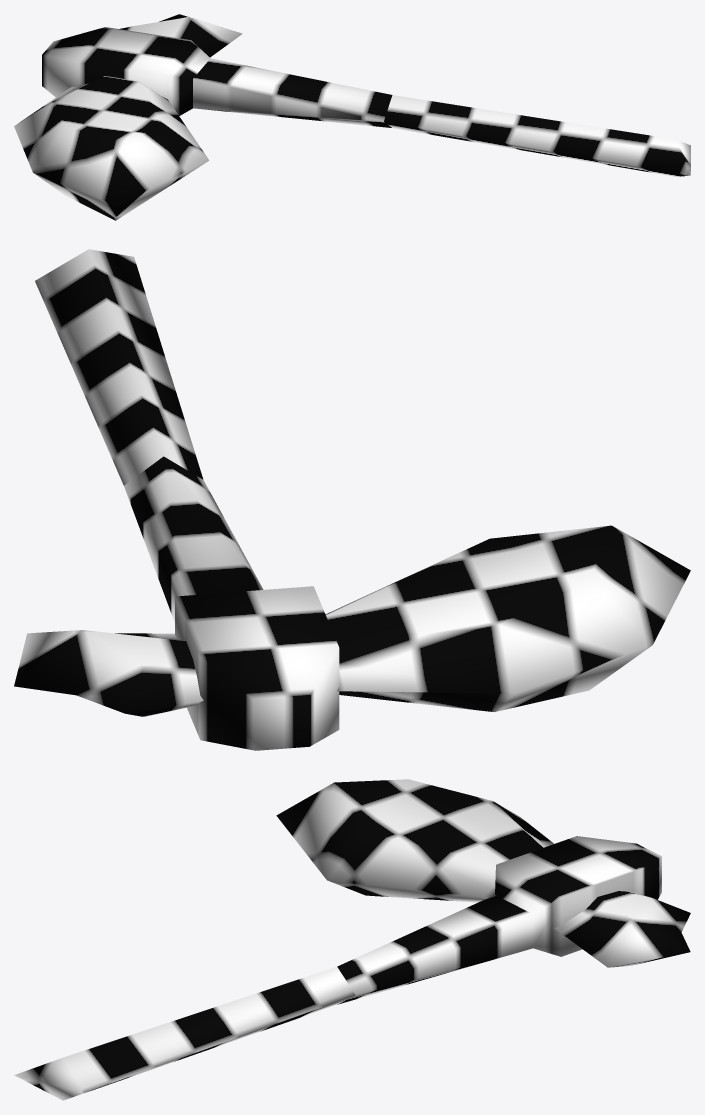
Rendered from initweax1.dae.
The picture shows the model from 3 angles, top to bottom: view 1: azimuth 30°, elevation 25°; view 2: azimuth 150°, elevation 25°; view 3: azimuth 270°, elevation 25°; orthographic projection. The views are drawn at different scales.
Parts seen in each view (by area): view 1: weapon; view 2: weapon; view 3: weapon.
Boxes of the visible parts, x1,y1,x2,y2 form: weapon: (14,14,690,220); weapon: (14,249,690,750); weapon: (14,779,690,1100).
Bounding box in the file's own units: 1.8 × 1.75 × 0.2672.
Materials: 1 (1 with a texture image).
